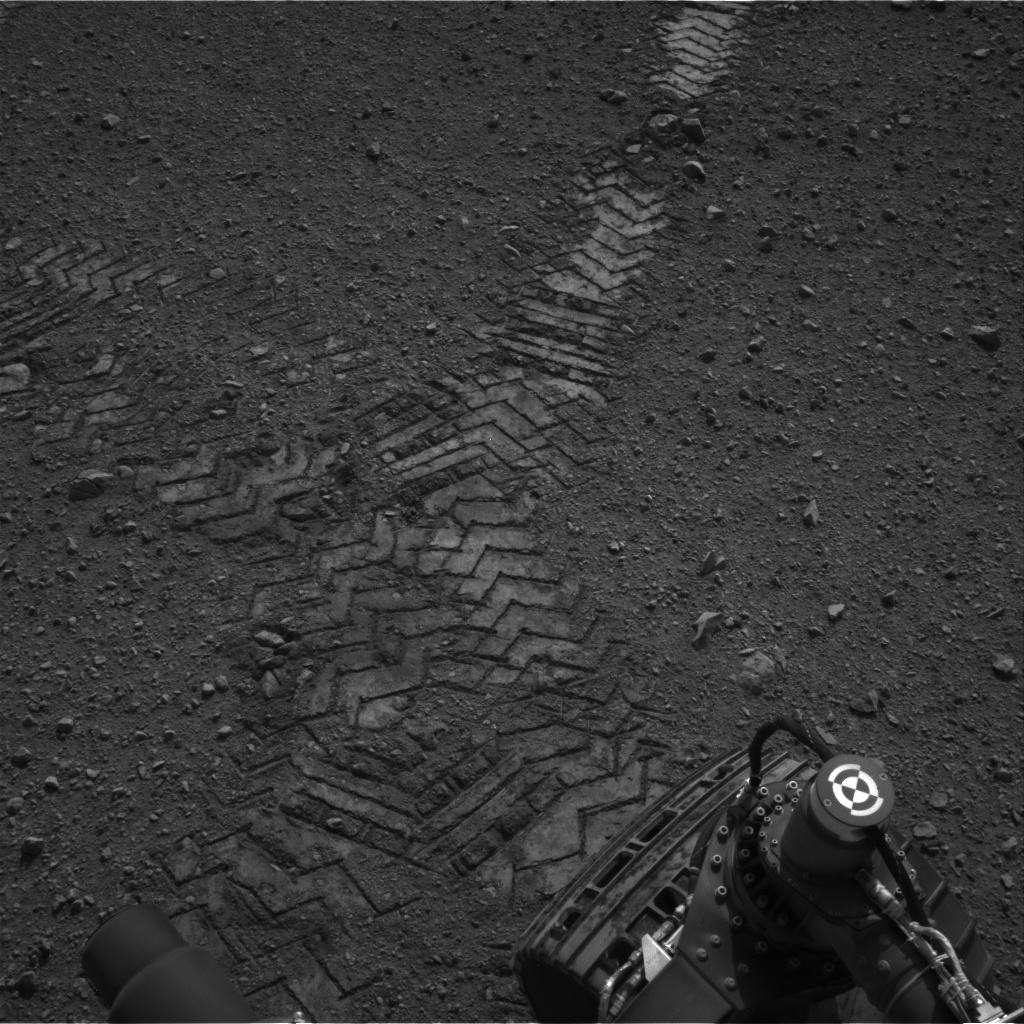soil: (6, 8, 1019, 1016), (997, 812, 1019, 865), (1012, 927, 1019, 942)
